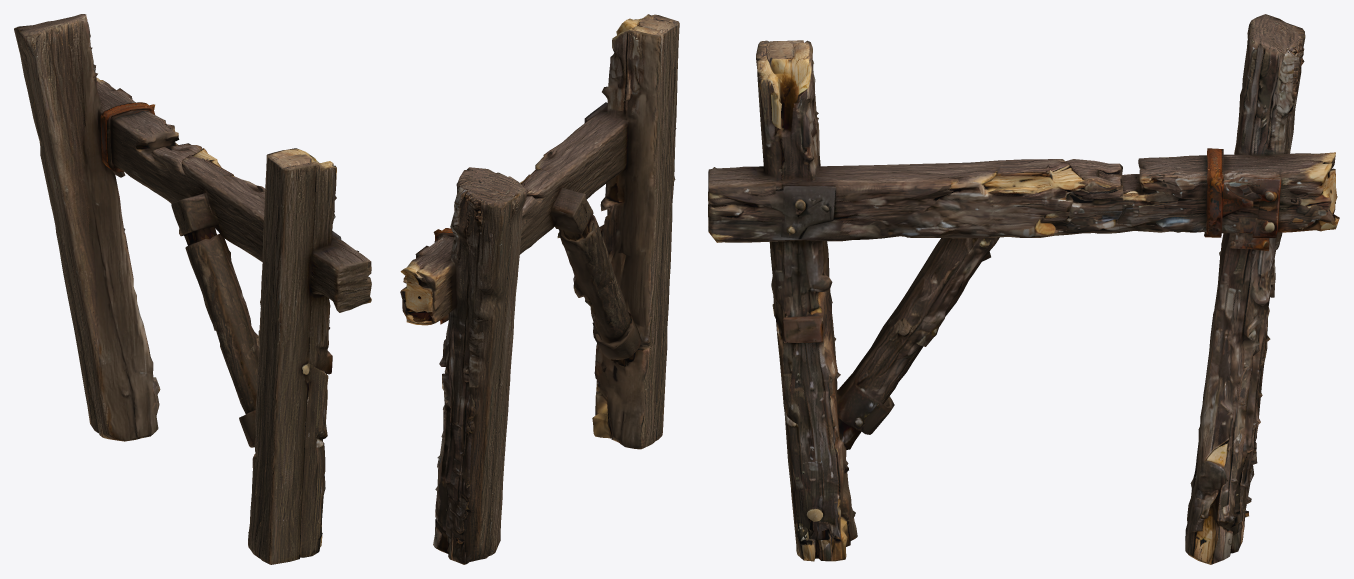
The model's file is wood_support.glb.
3 renders of one model, left to right at view 1: azimuth 30°, elevation 25°; view 2: azimuth 150°, elevation 25°; view 3: azimuth 270°, elevation 25°, orthographic. The views are drawn at different scales.
Visible parts, largest first — view 1: tripo_node_778cfa03-aca6-4d4b-bc6a-dd4b27d49694; view 2: tripo_node_778cfa03-aca6-4d4b-bc6a-dd4b27d49694; view 3: tripo_node_778cfa03-aca6-4d4b-bc6a-dd4b27d49694.
Boxes of the visible parts, box(x1,y1,x2,y2) form: tripo_node_778cfa03-aca6-4d4b-bc6a-dd4b27d49694: box(14, 14, 371, 564); tripo_node_778cfa03-aca6-4d4b-bc6a-dd4b27d49694: box(400, 14, 679, 564); tripo_node_778cfa03-aca6-4d4b-bc6a-dd4b27d49694: box(708, 14, 1339, 564).
Size of the model in its own units: 0.27 by 0.8627 by 1.
Materials: 1 (1 with a texture image).
